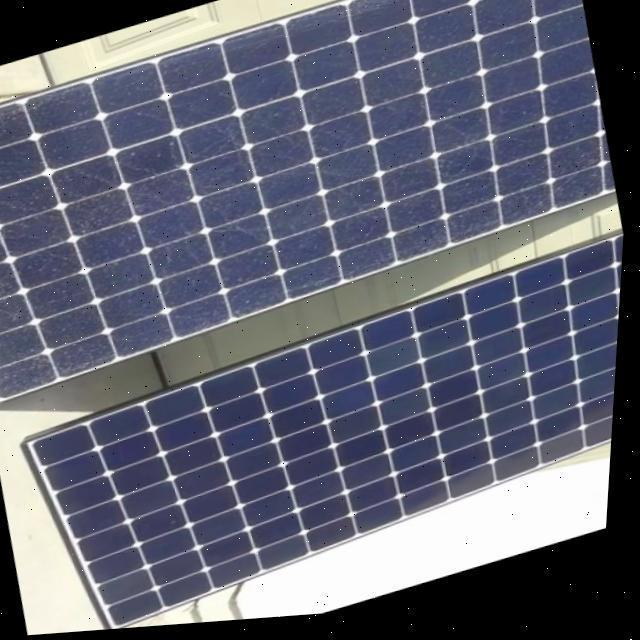Normal Solar Panel: (10, 240, 627, 638)
